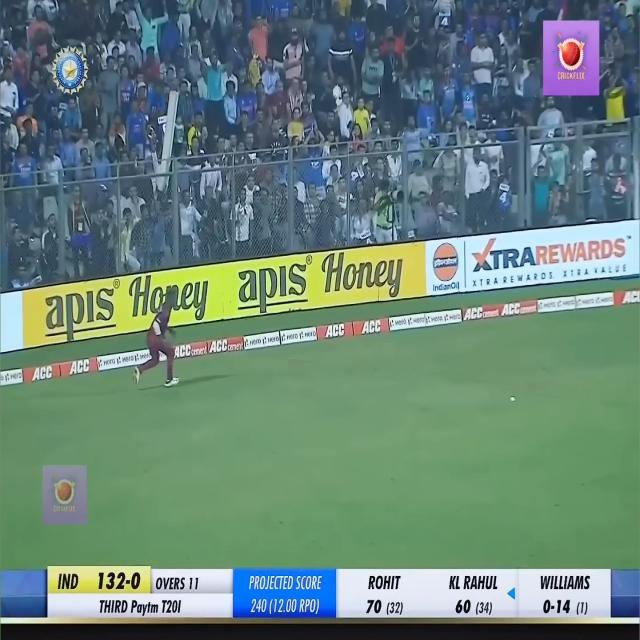fully_visible: (128, 594, 167, 618)
